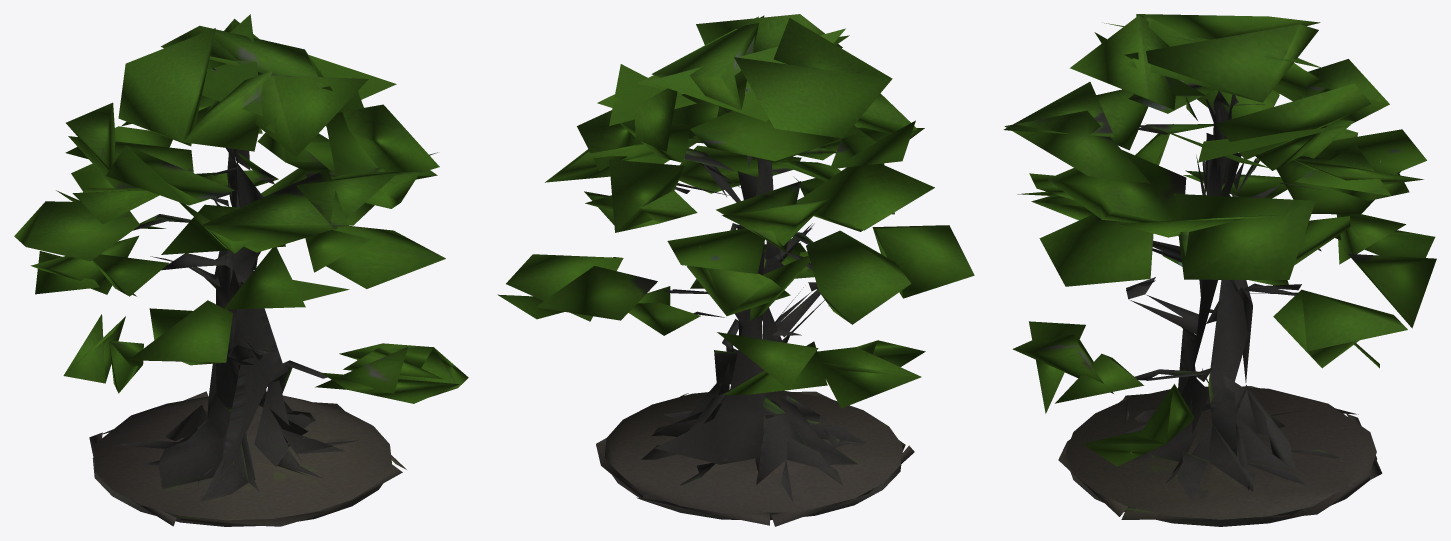
The model's file is terrain-tree.glb.
The picture shows the model from 3 angles, left to right: view 1: azimuth 30°, elevation 25°; view 2: azimuth 150°, elevation 25°; view 3: azimuth 270°, elevation 25°; orthographic projection. The views are drawn at different scales.
Parts seen in each view (by area): view 1: terrain-tree; view 2: terrain-tree; view 3: terrain-tree.
Part boxes in pixels (x1=…): terrain-tree: x1=14, y1=14, x2=468, y2=526; terrain-tree: x1=497, y1=14, x2=974, y2=526; terrain-tree: x1=1003, y1=14, x2=1436, y2=526.
Size of the model in its own units: 0.9 by 0.98 by 0.8726.
Materials: 1 (1 with a texture image).
